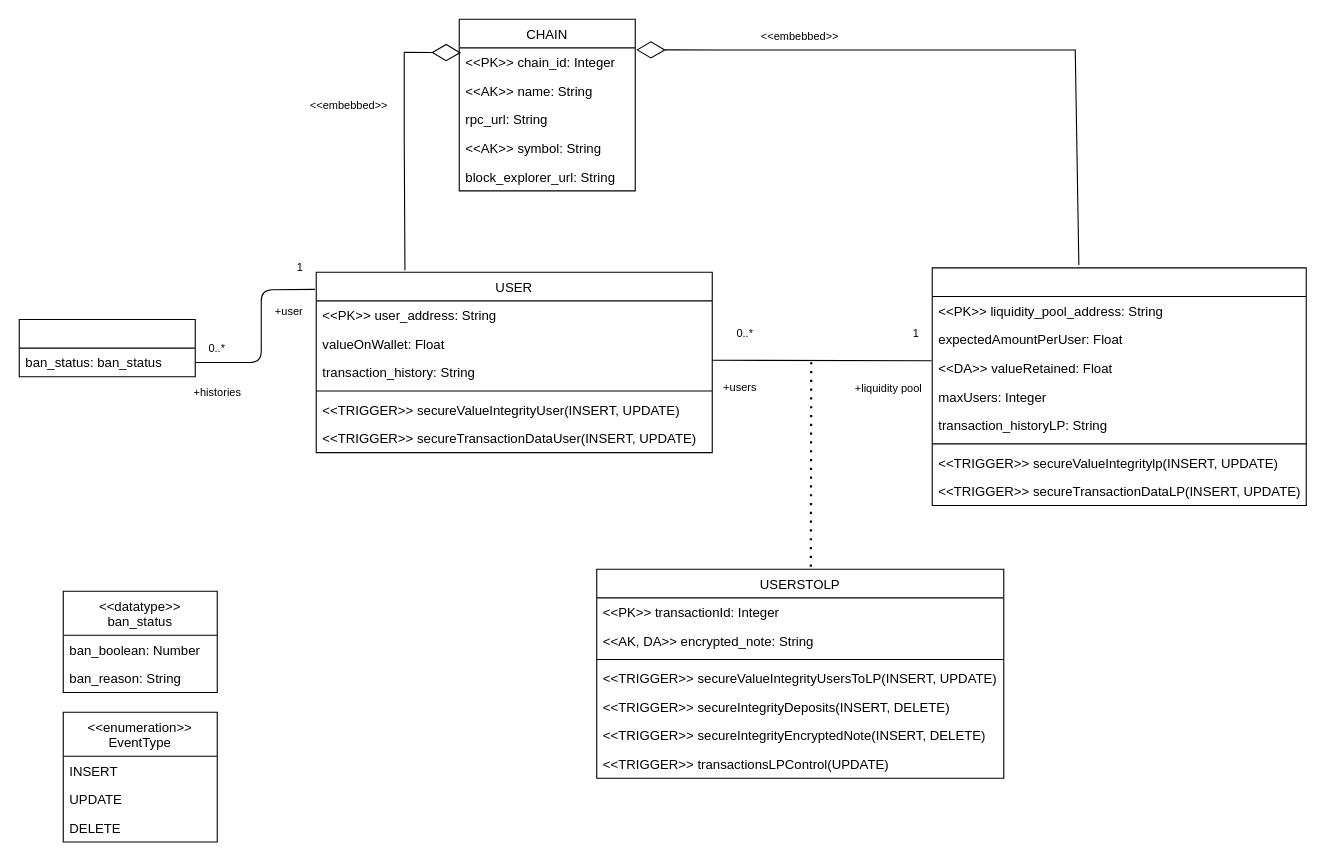
The diagram is 1326 pixels wide and 865 high, and some of its shapes have lost their labels. The shapes that lost their labels are listed below. From the top down, each one's box as (x1, y1, x2, y2) in pixels, then its label:
(18, 318, 195, 377): ban_history
(931, 267, 1306, 505): LIQUITY POOL
